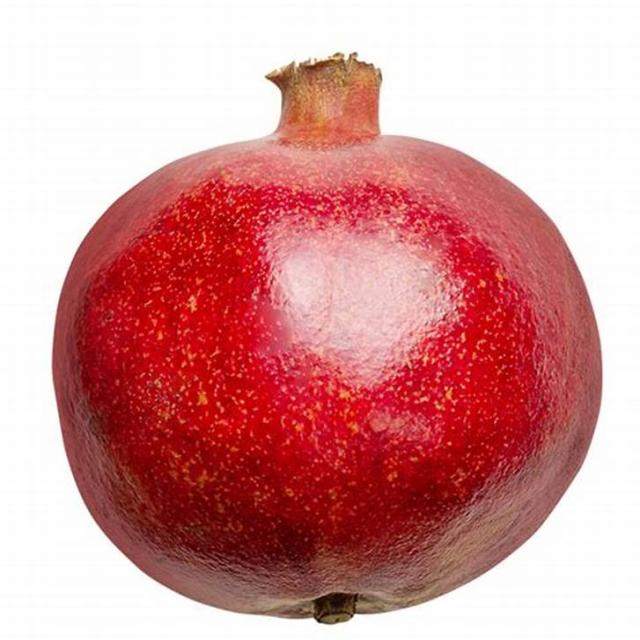Pomegranate: (52, 55, 604, 621)
